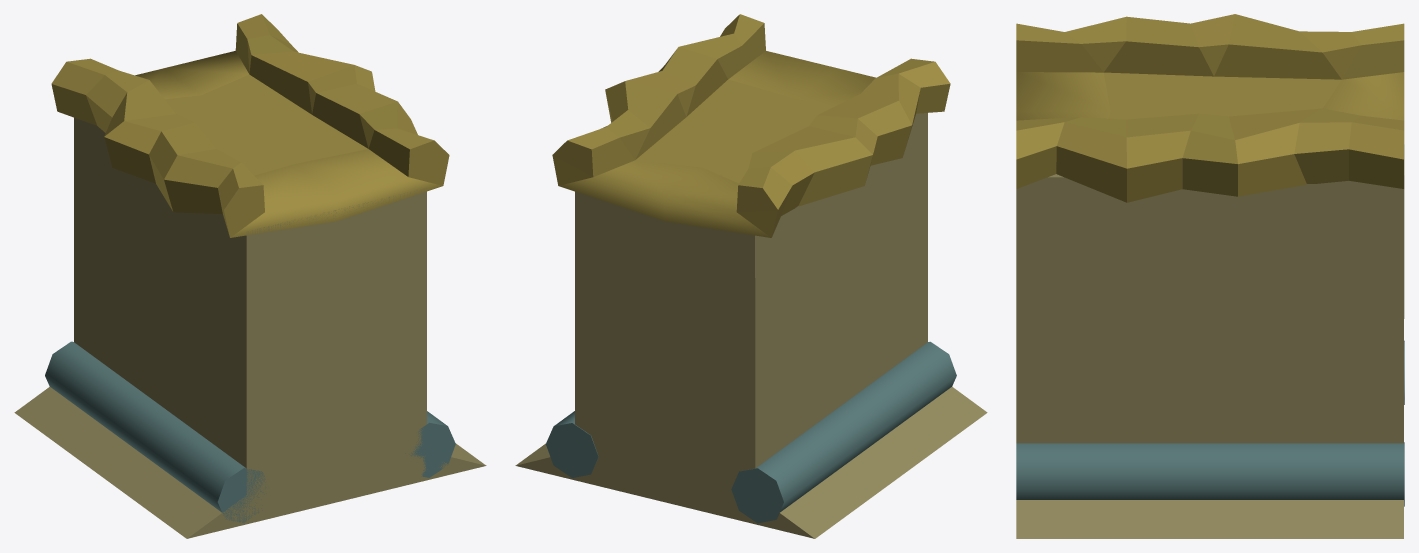
File: Int_7_Wall_Vert_Mid.fbx
3 views of the same model, side by side, from view 1: azimuth 30°, elevation 25°; view 2: azimuth 150°, elevation 25°; view 3: azimuth 270°, elevation 25° (orthographic). The views are drawn at different scales.
Parts seen in each view (by area): view 1: Int_7_Wall_Vert_Mid1; view 2: Int_7_Wall_Vert_Mid1; view 3: Int_7_Wall_Vert_Mid1.
Boxes of the visible parts, bbox=[...] form: Int_7_Wall_Vert_Mid1: bbox=[14, 14, 486, 538]; Int_7_Wall_Vert_Mid1: bbox=[515, 14, 987, 538]; Int_7_Wall_Vert_Mid1: bbox=[1016, 14, 1404, 538].
Size of the model in its own units: 1 by 1.08 by 0.999.
